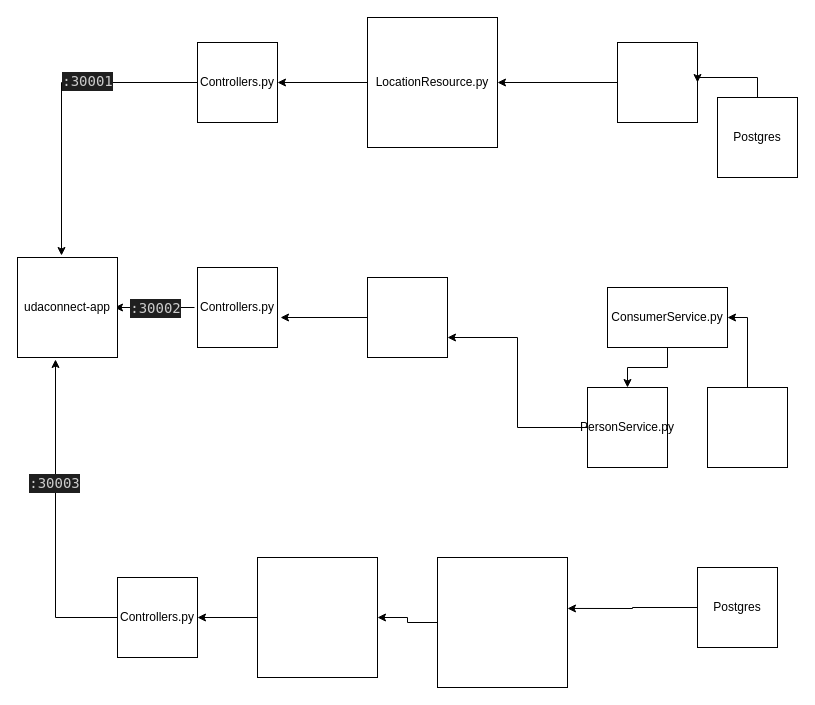
Image size: 815x705. Some labels were removed from this diagram. The shapes that lost their labels are listed below. From the top down, each one's centre as x and y in pixels, then its label:
point (657, 82): LocationService.py
point (407, 317): PersonsResource.py
point (747, 427): Kafka
point (317, 617): ConnectionDataResource.py
point (502, 622): ConnectionService.py
